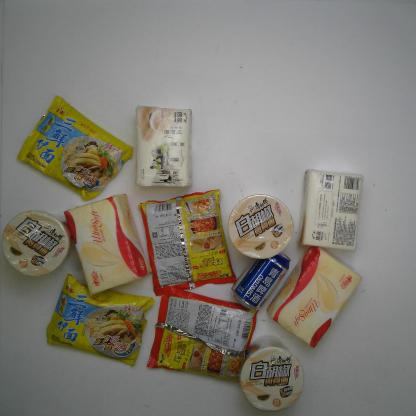Alcohol: (228, 249, 298, 317)
Instant Noodles: (15, 94, 135, 202), (146, 283, 260, 384), (136, 189, 240, 298), (44, 271, 157, 368), (224, 193, 298, 265), (1, 206, 71, 280), (238, 342, 309, 412)
Tissue: (265, 242, 365, 349), (62, 193, 155, 297), (296, 168, 365, 254), (132, 104, 195, 189)
